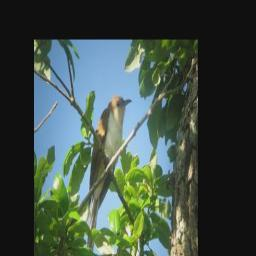Cuckoo: (85, 93, 134, 256)
